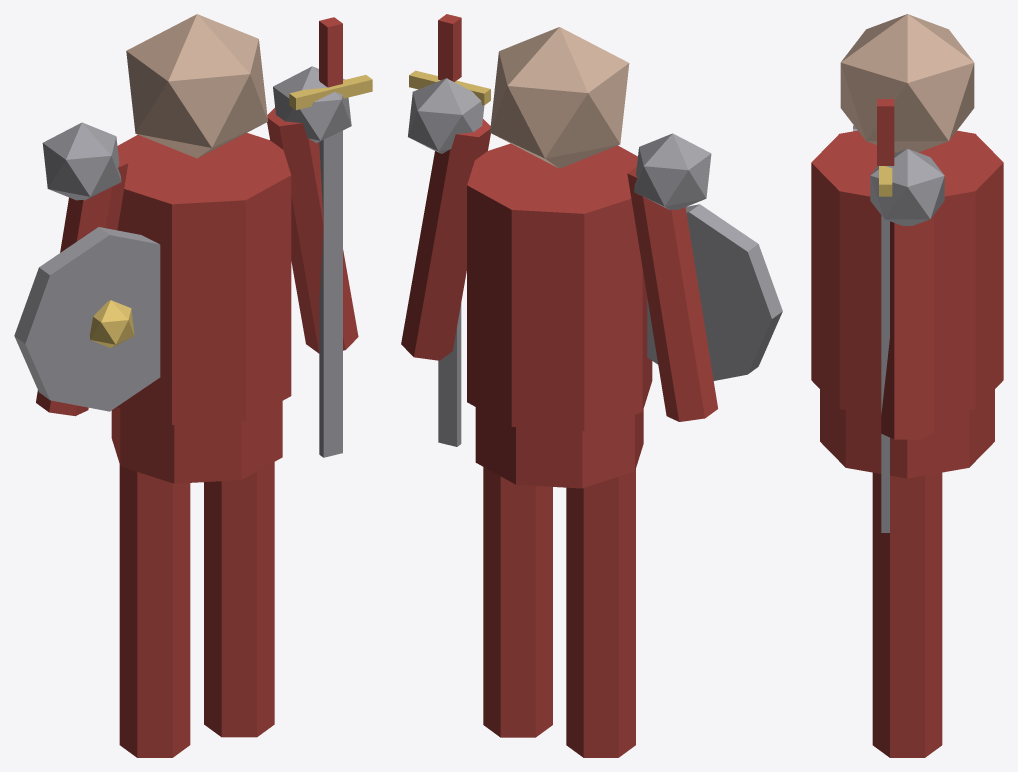
File: warrior.glb
The picture shows the model from 3 angles, left to right: view 1: azimuth 30°, elevation 25°; view 2: azimuth 150°, elevation 25°; view 3: azimuth 270°, elevation 25°; orthographic projection.
Visible parts, largest first — view 1: torso, leg_l, shield, leg_r, head, hips, arm_r, sword_blade, shoulder_l, shoulder_r, arm_l, sword_hilt (+2 smaller); view 2: torso, leg_l, leg_r, head, arm_l, shield, arm_r, hips, shoulder_l, shoulder_r, sword_blade, sword_hilt (+1 smaller); view 3: torso, leg_r, head, arm_r, hips, shoulder_r, sword_blade, sword_hilt, sword_guard.
Boxes of the visible parts, x1,y1,x2,y2 form: torso: (116,133,291,424); leg_l: (119,464,190,757); shield: (14,227,160,411); leg_r: (204,462,274,737); head: (126,14,267,158); hips: (111,401,282,483); arm_r: (267,107,358,353); sword_blade: (319,130,342,457); shoulder_l: (42,122,121,200); shoulder_r: (273,66,351,143); arm_l: (36,156,128,416); sword_hilt: (319,17,342,87); torso: (467,143,652,430); leg_l: (566,469,635,757); leg_r: (483,467,552,737); head: (490,27,629,168); arm_l: (627,166,717,421); shield: (647,204,782,380); arm_r: (401,119,490,360); hips: (475,407,643,488); shoulder_l: (634,133,711,209); shoulder_r: (408,78,484,153); sword_blade: (438,303,461,446); sword_hilt: (438,14,461,81); torso: (811,130,1003,416); leg_r: (872,472,942,757); head: (840,14,974,152); arm_r: (881,215,933,439); hips: (820,389,994,478); shoulder_r: (870,148,944,225); sword_blade: (881,215,889,532); sword_hilt: (877,99,894,165); sword_guard: (879,166,892,196).
Size of the model in its own units: 0.94 by 1.8 by 0.44.
